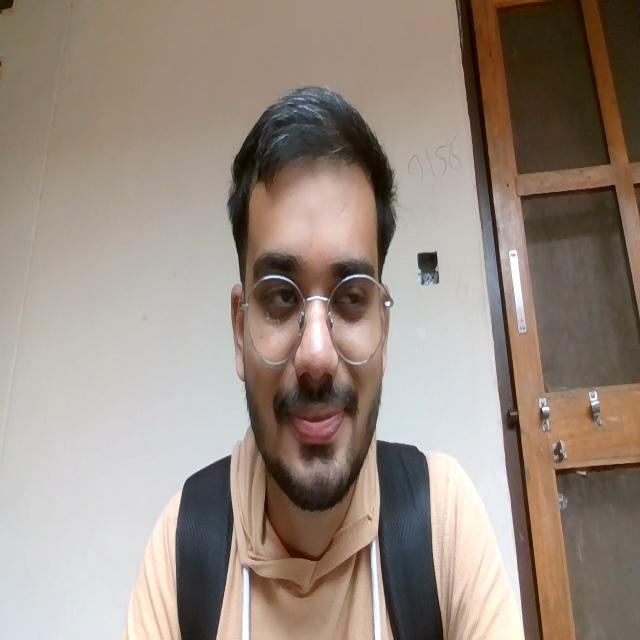drowsy: (245, 254, 382, 470)
